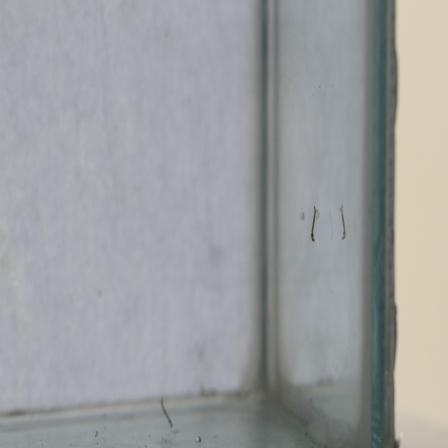Jentik-Nyamuk: (306, 202, 323, 247), (157, 395, 176, 432)
